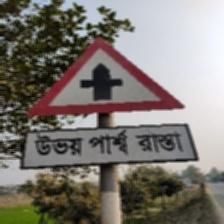Crossroad: (18, 37, 196, 167)
